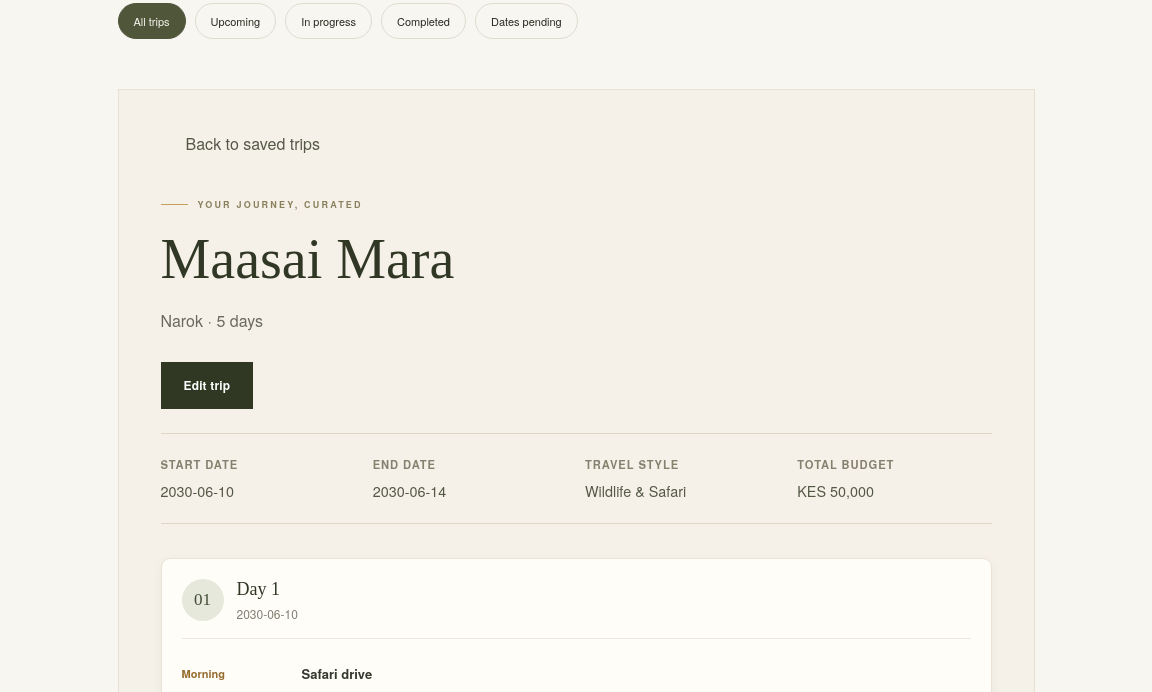
Test: App saved trips › updates a saved itinerary and refreshes its detail and saved-trip list
This screenshot has width=1152, height=692.
(page scrolled)
Check: the heading "Safari drive" is shown, box 302,664 -> 372,683
Click the button "Edit trip": (207,385) 160,362 -> 253,409
(page scrolled)
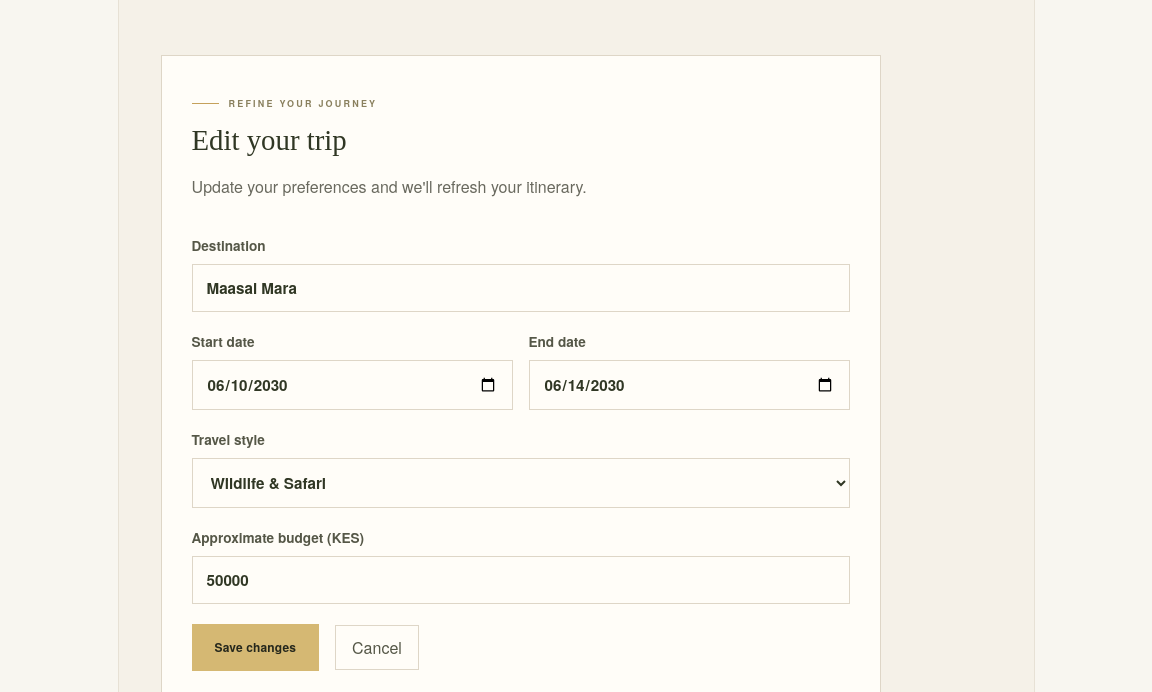
In the date field labelled "End date": (689,385) 528,360 -> 850,410, type "2030-06-15"
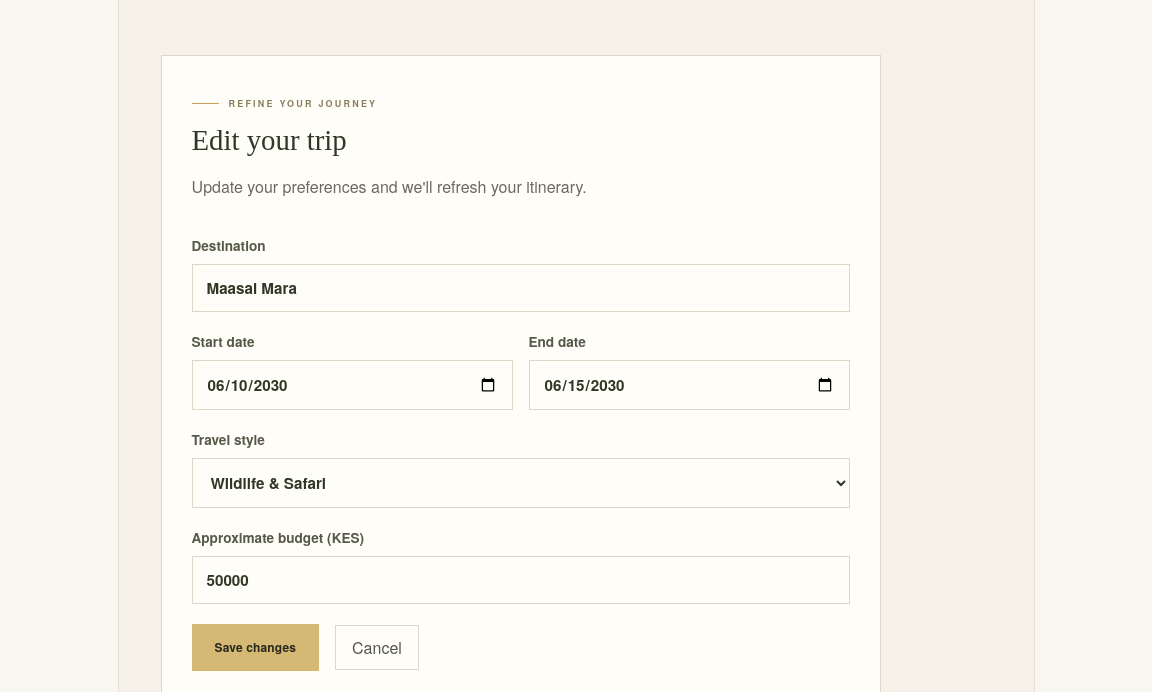
Click the button "Save changes": (255,647) 192,624 -> 319,671
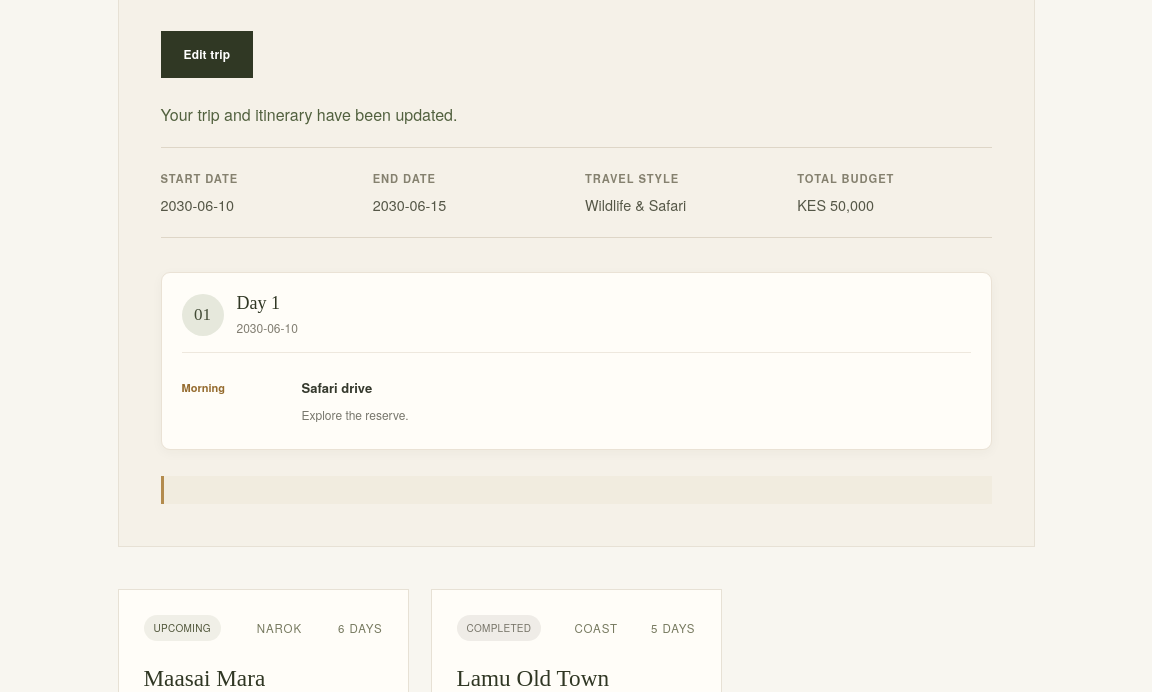
Check: the text "Your trip and itinerary have been updated." is shown, box 160,103 -> 457,126
